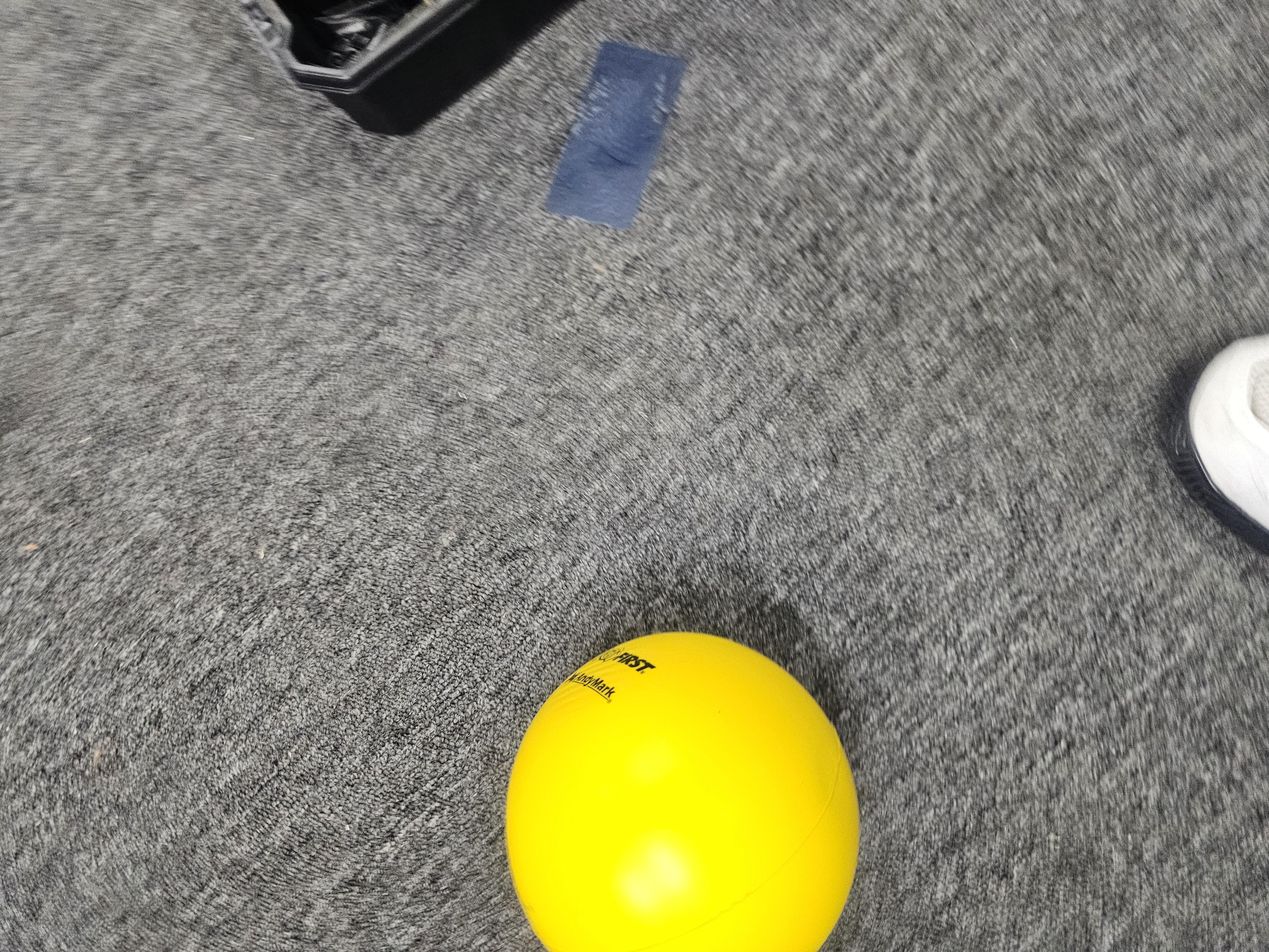fuel: (492, 619, 870, 952)
